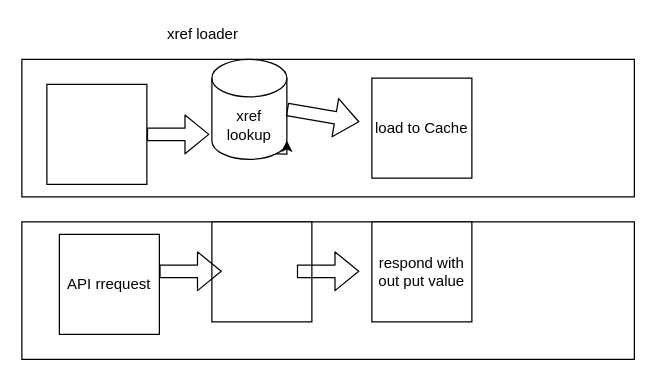
Image size: 656x381. Some labels were removed from this diagram. Each missing label, with the box of its shape:
get matching value of input from cache: (211, 221, 312, 322)
startup: (46, 83, 147, 184)
